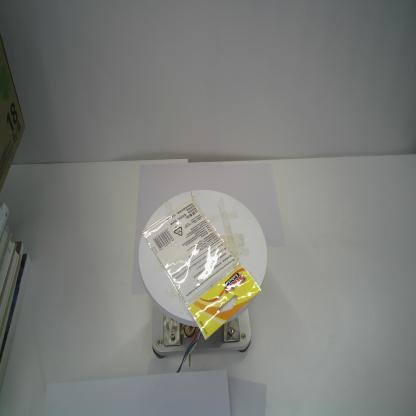Stationery: (138, 196, 262, 342)
